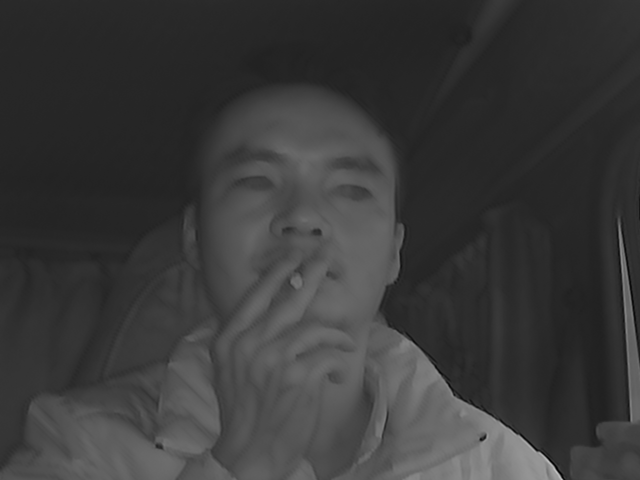hand: (216, 252, 350, 404)
